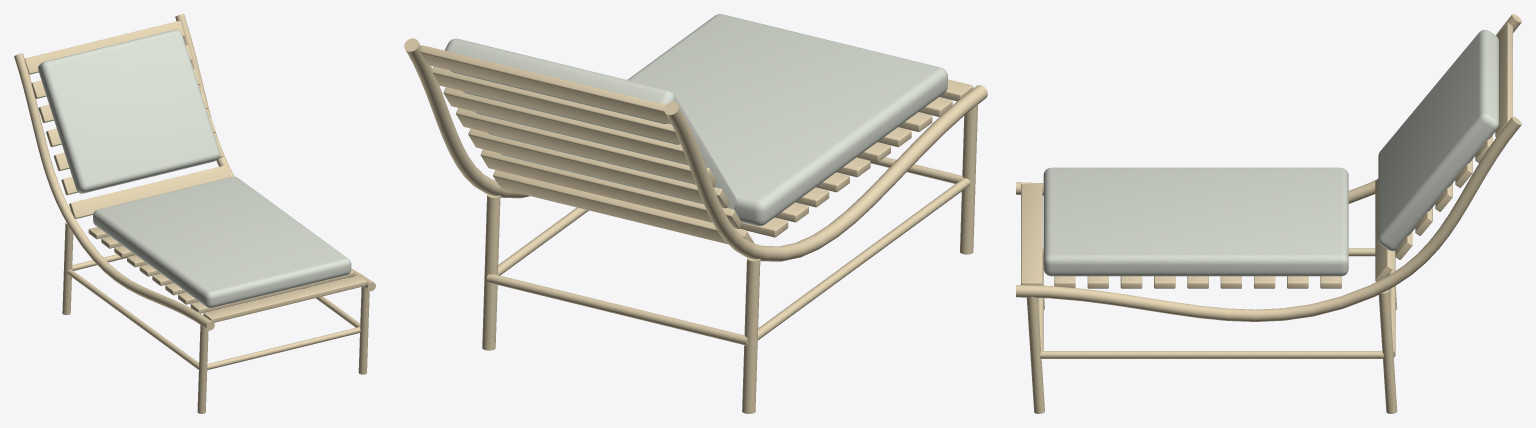
File: sg_lounge_outdoor.glb
3 views of the same model, side by side, from view 1: azimuth 30°, elevation 25°; view 2: azimuth 150°, elevation 25°; view 3: azimuth 270°, elevation 25° (orthographic). The views are drawn at different scales.
Visible parts, largest first — view 1: backcush, cushion, rail0, bslat0, slat0, bslat6, side0, cross1, rail1, legf0, legf1, legb0 (+1 smaller); view 2: cushion, rail0, backcush, bslat6, bslat0, bslat5, bslat4, bslat3, bslat2, bslat1, rail1, cross2 (+7 smaller); view 3: cushion, backcush, rail1, side1, slat0, bslat6, legb1, legf1, bslat0, rail0.
Boxes of the visible parts, x1=… form: backcush: x1=38, y1=29, x2=220, y2=193; cushion: x1=93, y1=176, x2=351, y2=307; rail0: x1=14, y1=53, x2=214, y2=330; bslat0: x1=69, y1=165, x2=229, y2=218; slat0: x1=203, y1=275, x2=366, y2=322; bslat6: x1=24, y1=20, x2=184, y2=74; side0: x1=67, y1=269, x2=198, y2=369; cross1: x1=207, y1=327, x2=360, y2=369; rail1: x1=175, y1=14, x2=375, y2=291; legf0: x1=197, y1=325, x2=208, y2=413; legf1: x1=358, y1=286, x2=369, y2=374; legb0: x1=62, y1=222, x2=73, y2=314; cushion: x1=627, y1=14, x2=947, y2=226; rail0: x1=664, y1=85, x2=987, y2=261; backcush: x1=445, y1=38, x2=736, y2=209; bslat6: x1=420, y1=45, x2=671, y2=124; bslat0: x1=493, y1=170, x2=754, y2=244; bslat5: x1=432, y1=66, x2=680, y2=144; bslat4: x1=443, y1=87, x2=704, y2=163; bslat3: x1=456, y1=108, x2=716, y2=187; bslat2: x1=468, y1=128, x2=729, y2=208; bslat1: x1=480, y1=149, x2=741, y2=228; rail1: x1=404, y1=38, x2=529, y2=198; cross2: x1=486, y1=274, x2=747, y2=345; cushion: x1=1043, y1=167, x2=1348, y2=276; backcush: x1=1378, y1=30, x2=1498, y2=251; rail1: x1=1016, y1=116, x2=1521, y2=321; side1: x1=1039, y1=351, x2=1384, y2=358; slat0: x1=1021, y1=184, x2=1042, y2=285; bslat6: x1=1495, y1=23, x2=1512, y2=136; legb1: x1=1378, y1=290, x2=1397, y2=413; legf1: x1=1026, y1=296, x2=1044, y2=413; bslat0: x1=1375, y1=178, x2=1392, y2=281; rail0: x1=1016, y1=14, x2=1521, y2=203.
Size of the model in its own units: 0.652 by 0.8304 by 1.29.
